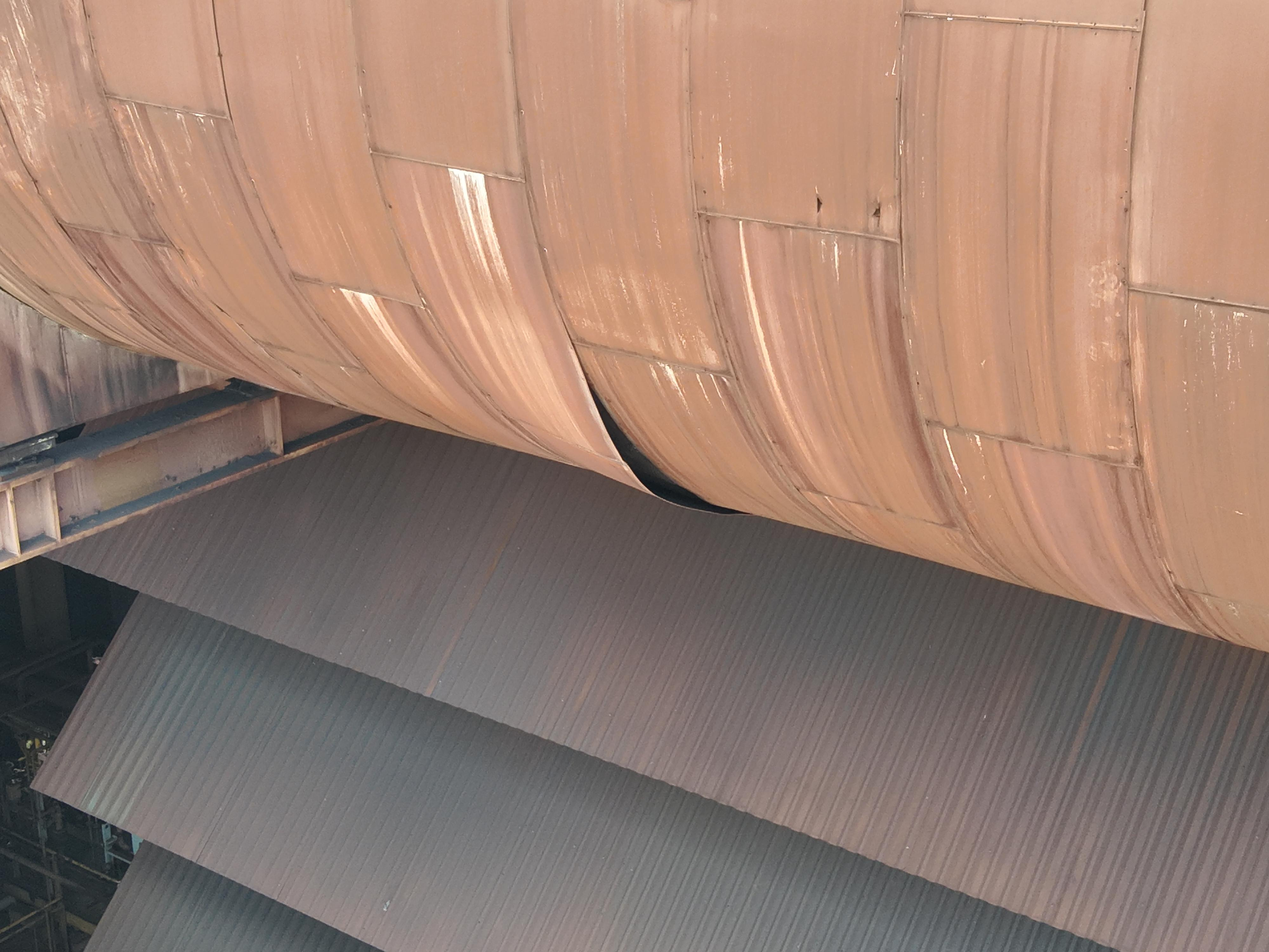Failures: (470, 192, 758, 535)
